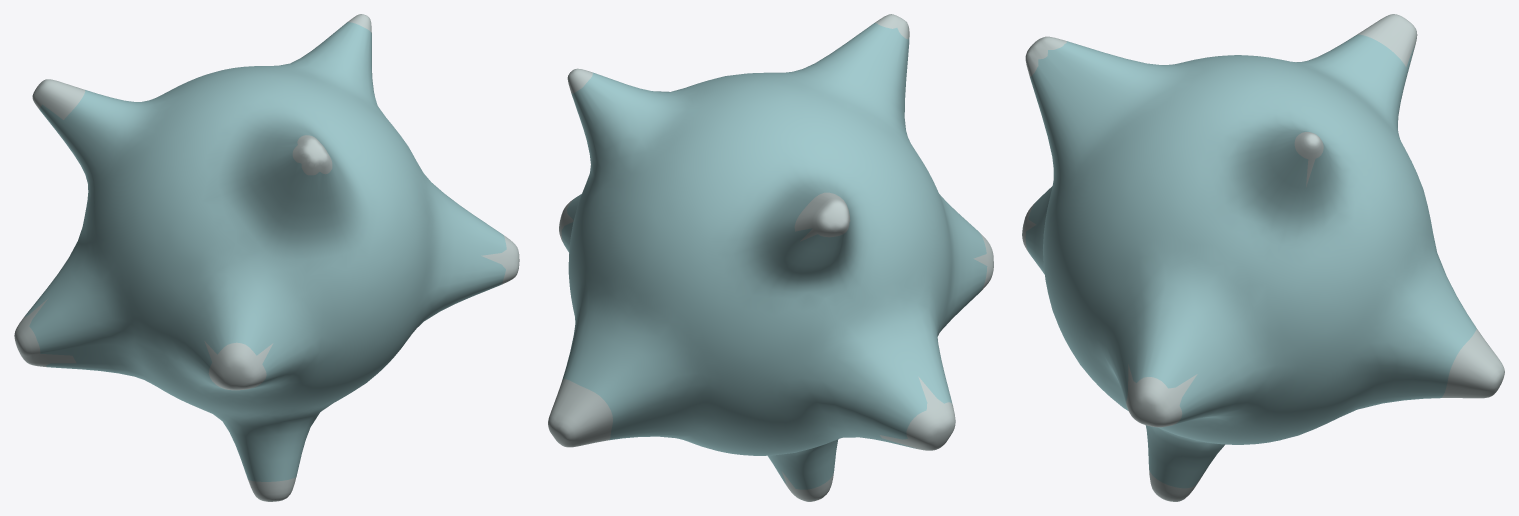
The model's file is planet_globe.glb.
The picture shows the model from 3 angles, left to right: view 1: azimuth 30°, elevation 25°; view 2: azimuth 150°, elevation 25°; view 3: azimuth 270°, elevation 25°; orthographic projection. The views are drawn at different scales.
Visible parts, largest first — view 1: Planet_4; view 2: Planet_4; view 3: Planet_4.
Part boxes in pixels (x1,y1,x2,y2): Planet_4: [14, 14, 519, 501]; Planet_4: [548, 14, 993, 501]; Planet_4: [1022, 14, 1504, 501].
Bounding box in the file's own units: 4.49 × 4.09 × 3.97.
Materials: 1 (1 with a texture image).
